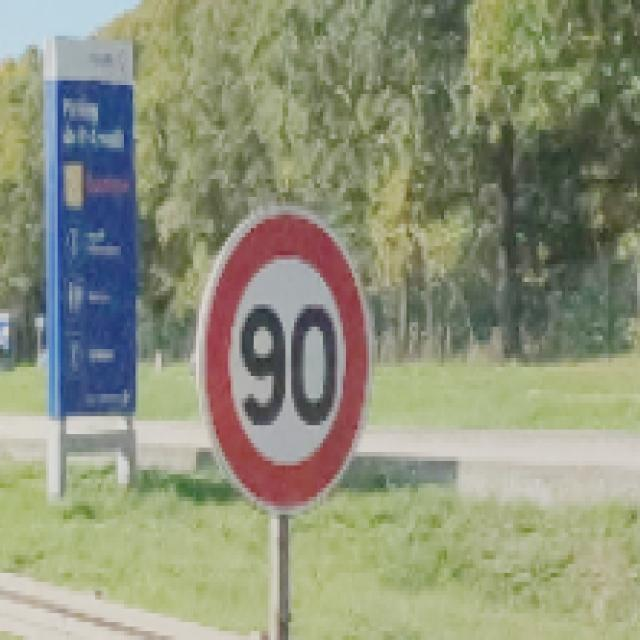speed_90: (197, 196, 373, 517)
